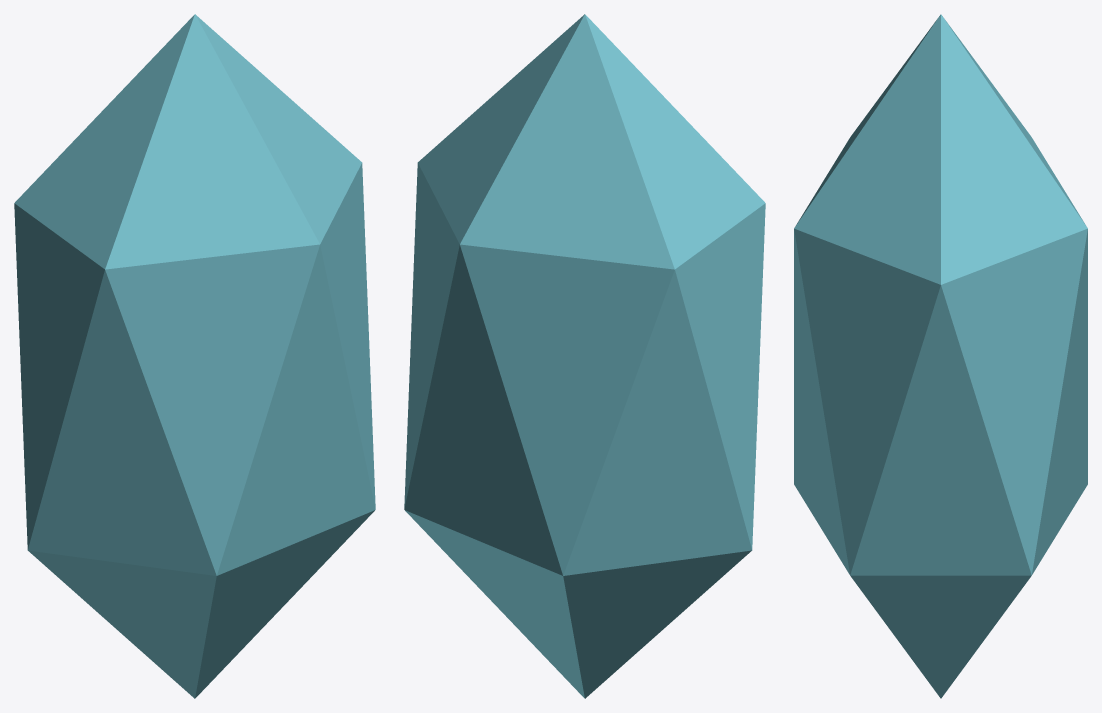
Rendered from SM_IceShard_03.glb.
3 renders of one model, left to right at view 1: azimuth 30°, elevation 25°; view 2: azimuth 150°, elevation 25°; view 3: azimuth 270°, elevation 25°, orthographic.
Visible parts, largest first — view 1: SM_IceShard_03; view 2: SM_IceShard_03; view 3: SM_IceShard_03.
Boxes of the visible parts, x1,y1,x2,y2 form: SM_IceShard_03: (14, 14, 375, 698); SM_IceShard_03: (404, 14, 765, 698); SM_IceShard_03: (794, 14, 1087, 698).
Bounding box in the file's own units: 0.3578 × 0.7 × 0.2722.
